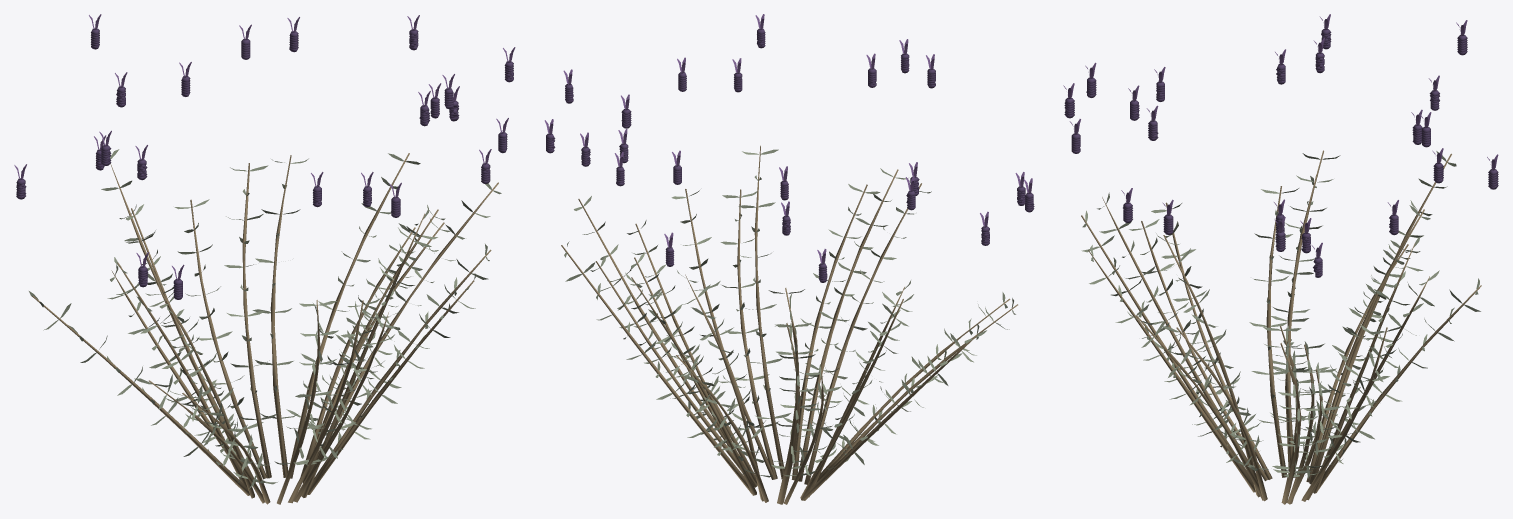
The model's file is Lavande_1_Niveau0.fbx.
3 views of the same model, side by side, from view 1: azimuth 30°, elevation 25°; view 2: azimuth 150°, elevation 25°; view 3: azimuth 270°, elevation 25° (orthographic). The views are drawn at different scales.
Parts seen in each view (by area): view 1: Lavande_1_Niveau0_Jeu; view 2: Lavande_1_Niveau0_Jeu; view 3: Lavande_1_Niveau0_Jeu.
Boxes of the visible parts, left/top/right/bottom form: Lavande_1_Niveau0_Jeu: left=14, top=14, right=515, bottom=504; Lavande_1_Niveau0_Jeu: left=544, top=14, right=1034, bottom=504; Lavande_1_Niveau0_Jeu: left=1063, top=14, right=1498, bottom=504.
Bounding box in the file's own units: 82.06 × 71.63 × 66.26.
